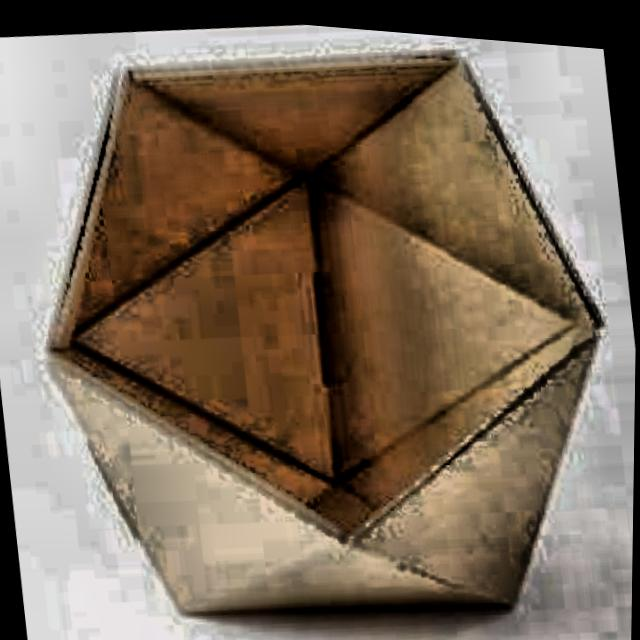Cardbox: (1, 1, 640, 640)
